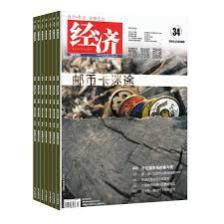paper: (29, 12, 204, 224)
